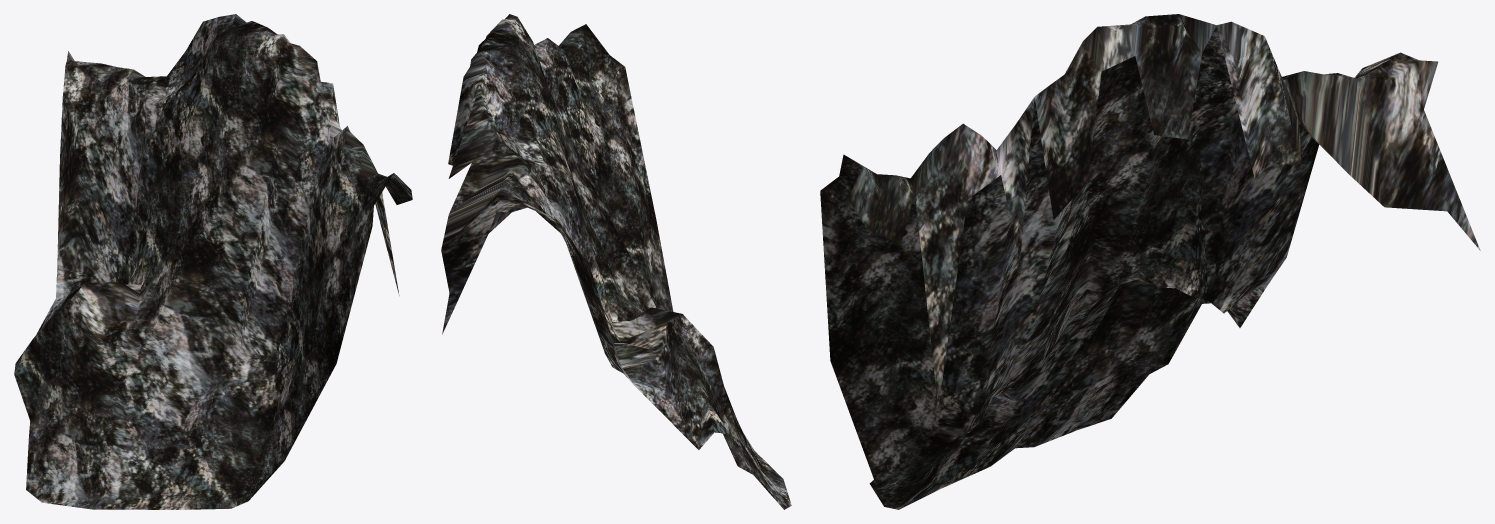
The model's file is OVERHILL_A_01_OBJECT379.fbx.
3 renders of one model, left to right at view 1: azimuth 30°, elevation 25°; view 2: azimuth 150°, elevation 25°; view 3: azimuth 270°, elevation 25°, orthographic. The views are drawn at different scales.
Visible parts, largest first — view 1: OVERHILL_A_01_OBJECT379; view 2: OVERHILL_A_01_OBJECT379; view 3: OVERHILL_A_01_OBJECT379.
Boxes of the visible parts, x1,y1,x2,y2 form: OVERHILL_A_01_OBJECT379: (14,14,412,509); OVERHILL_A_01_OBJECT379: (441,14,791,509); OVERHILL_A_01_OBJECT379: (820,14,1480,509).
Size of the model in its own units: 285274 by 344030 by 355573.
Materials: 1 (1 with a texture image).
